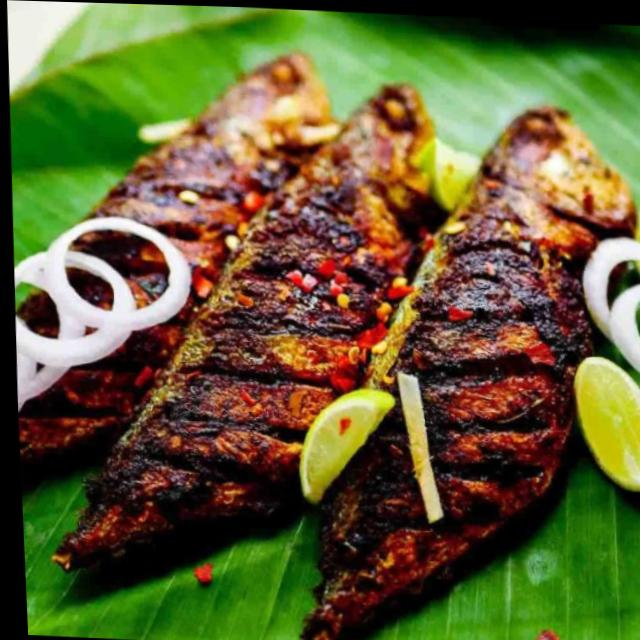FISH FRY: (14, 43, 640, 640)
